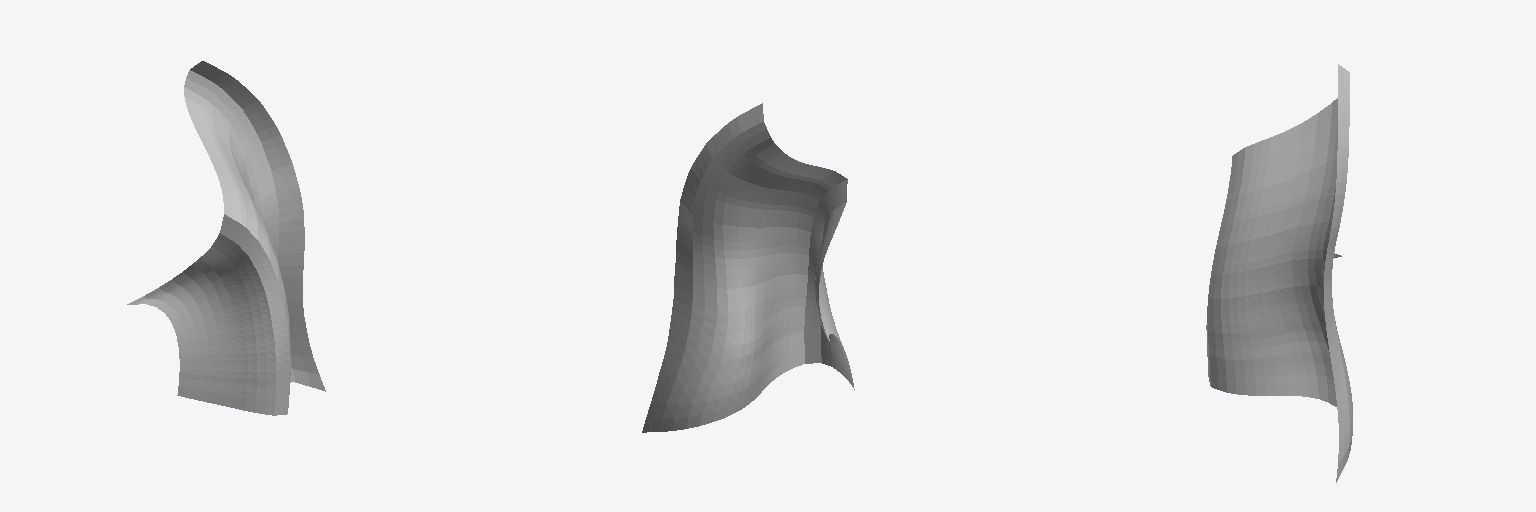
The model's file is points.obj.
3 renders of one model, left to right at view 1: azimuth 30°, elevation 25°; view 2: azimuth 150°, elevation 25°; view 3: azimuth 270°, elevation 25°, orthographic.
Bounding box in the file's own units: 20.73 × 36.36 × 13.45.